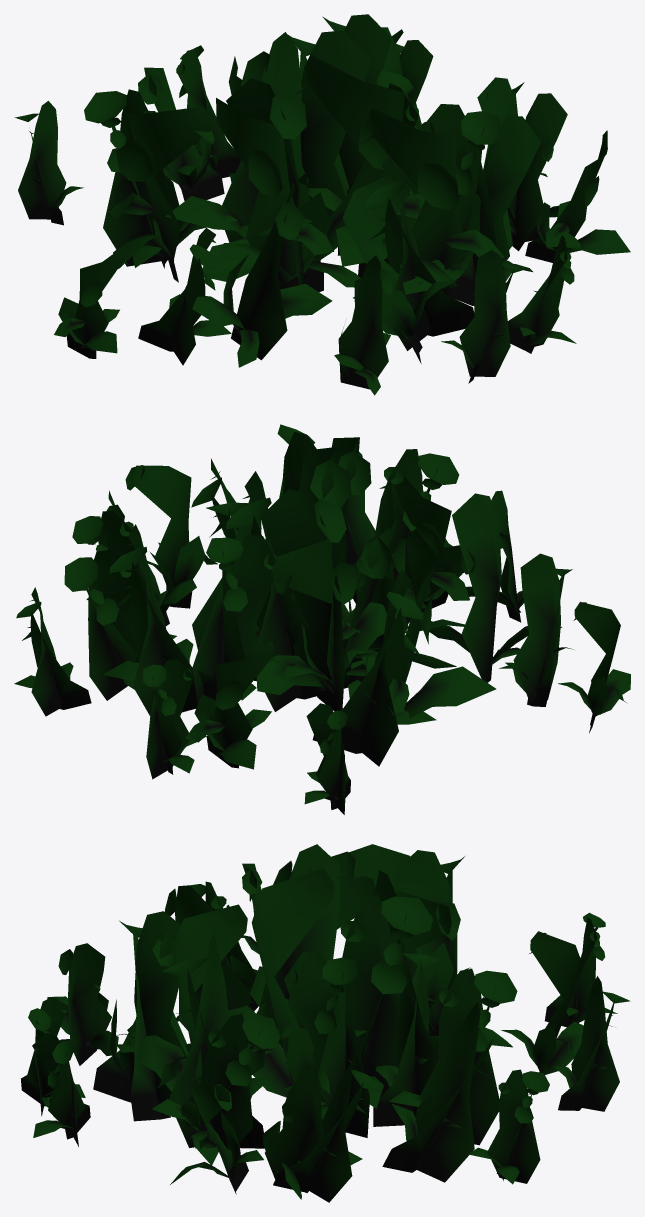
The model's file is FlowersDlionGCATA_L.fbx.
3 renders of one model, top to bottom at view 1: azimuth 30°, elevation 25°; view 2: azimuth 150°, elevation 25°; view 3: azimuth 270°, elevation 25°, orthographic.
Visible parts, largest first — view 1: FDGCATAL_LOD0; view 2: FDGCATAL_LOD0; view 3: FDGCATAL_LOD0.
Boxes of the visible parts, left/top/right/bottom form: FDGCATAL_LOD0: left=14, top=14, right=630, bottom=395; FDGCATAL_LOD0: left=14, top=424, right=630, bottom=814; FDGCATAL_LOD0: left=21, top=844, right=630, bottom=1202.
Size of what is drawn, in the model's own units: 1.32 by 0.5517 by 1.31.
